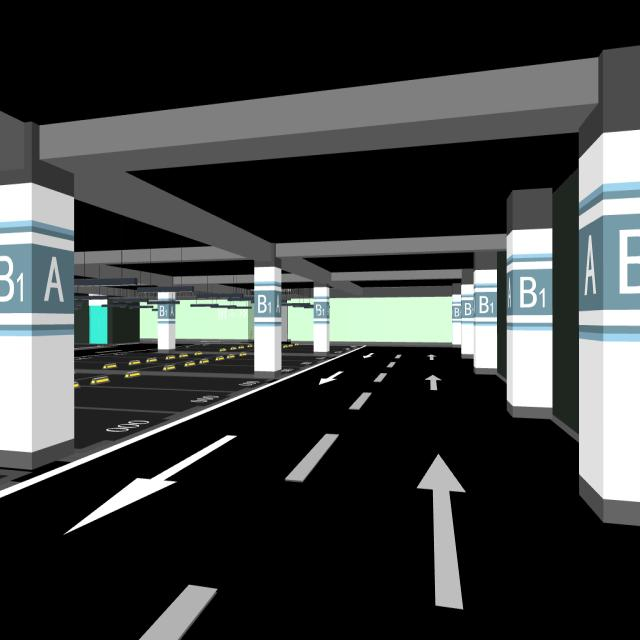simu_pillar: (506, 227, 552, 418), (254, 261, 281, 377), (474, 269, 498, 373), (314, 286, 330, 351), (158, 291, 175, 352)
